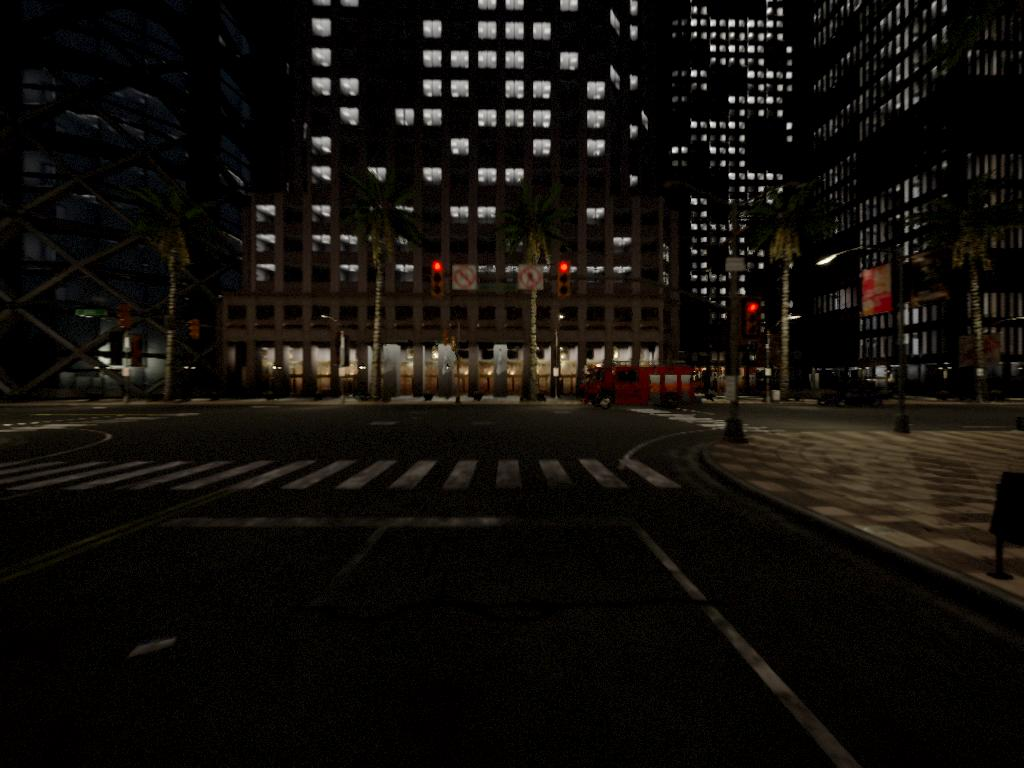traffic_light: (557, 257, 574, 305), (745, 300, 762, 340), (431, 263, 448, 298)
